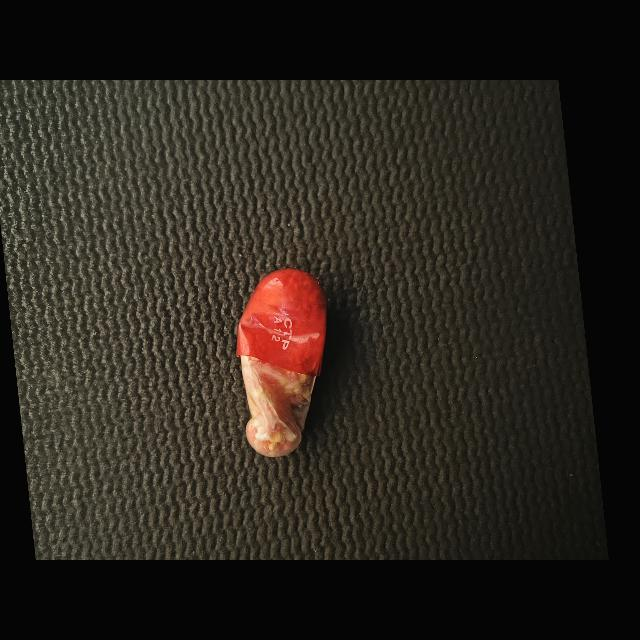Defective Capsule: (236, 269, 326, 457)
